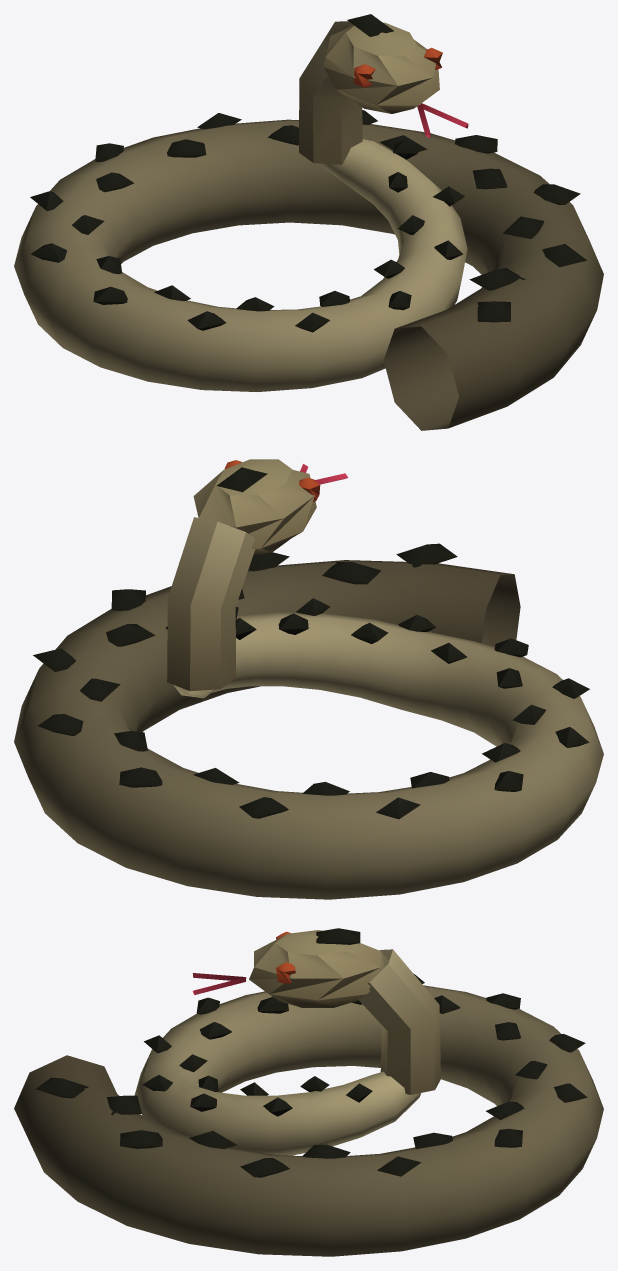
Rendered from adder.glb.
3 views of the same model, one above another, from view 1: azimuth 30°, elevation 25°; view 2: azimuth 150°, elevation 25°; view 3: azimuth 270°, elevation 25° (orthographic). The views are drawn at different scales.
Parts seen in each view (by area): view 1: body, head; view 2: body, head; view 3: body, head.
Boxes of the visible parts, left/top/right/bottom form: body: left=14, top=110, right=603, bottom=430; head: left=299, top=14, right=468, bottom=164; body: left=14, top=543, right=603, bottom=899; head: left=167, top=459, right=348, bottom=691; body: left=14, top=974, right=603, bottom=1256; head: left=192, top=928, right=440, bottom=1094.
Bounding box in the file's own units: 0.5918 × 0.3286 × 0.656.
